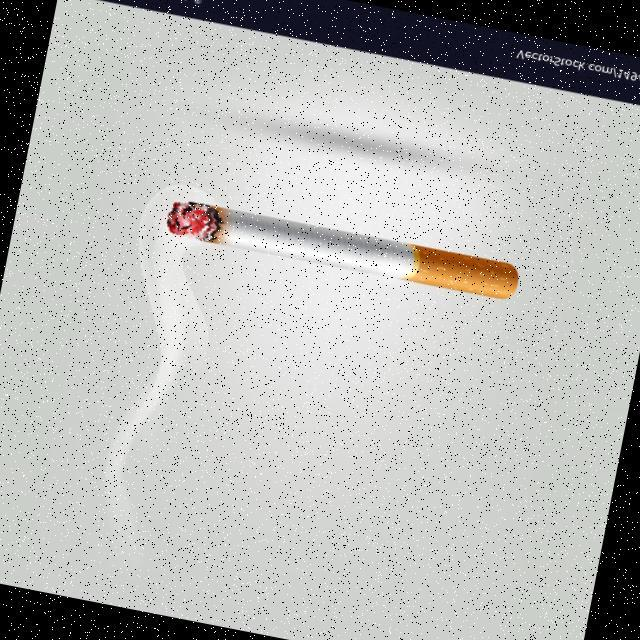cigarette: (164, 196, 523, 302)
